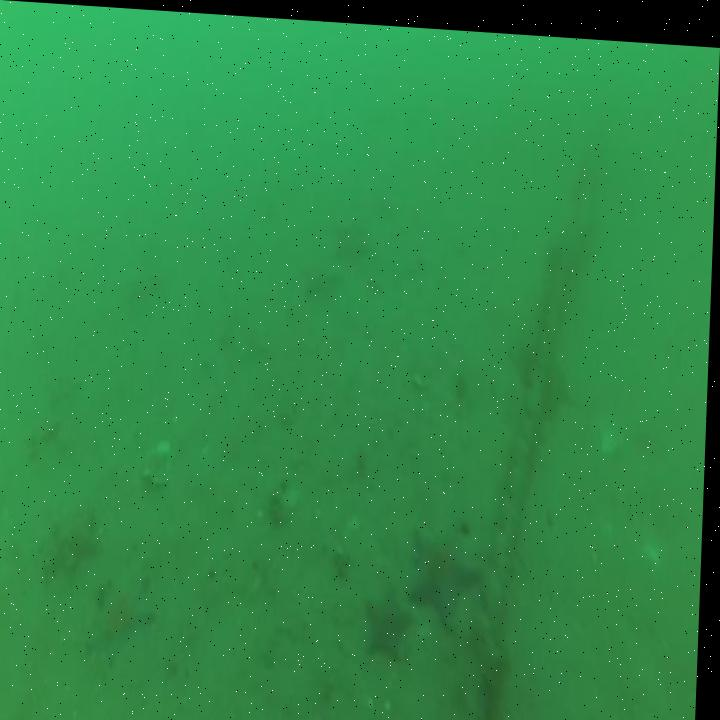starfish: (411, 508, 488, 634), (87, 576, 159, 670), (48, 505, 105, 581), (365, 580, 416, 654)
